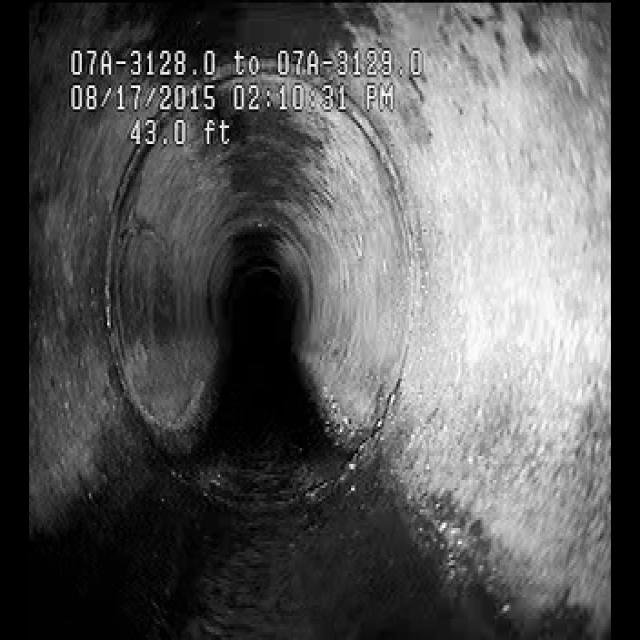Crack: (123, 186, 175, 262)
